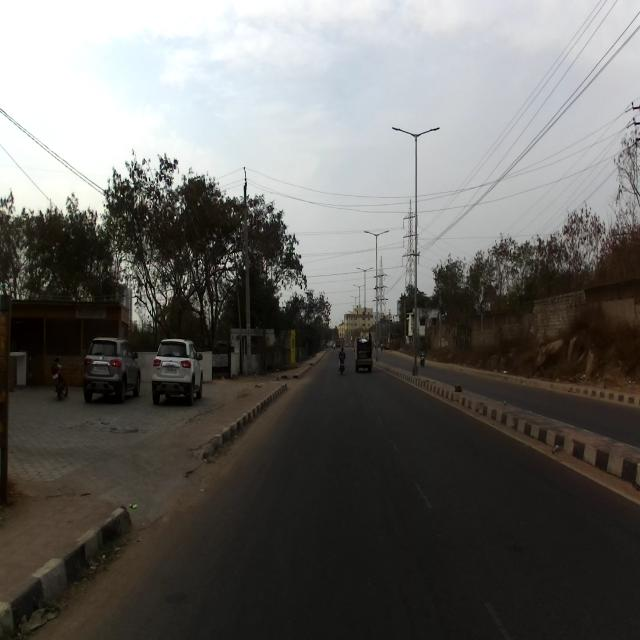car ahead at: (84, 327, 141, 407), (149, 335, 205, 411)
electric pole ahead at: (236, 165, 258, 378)
